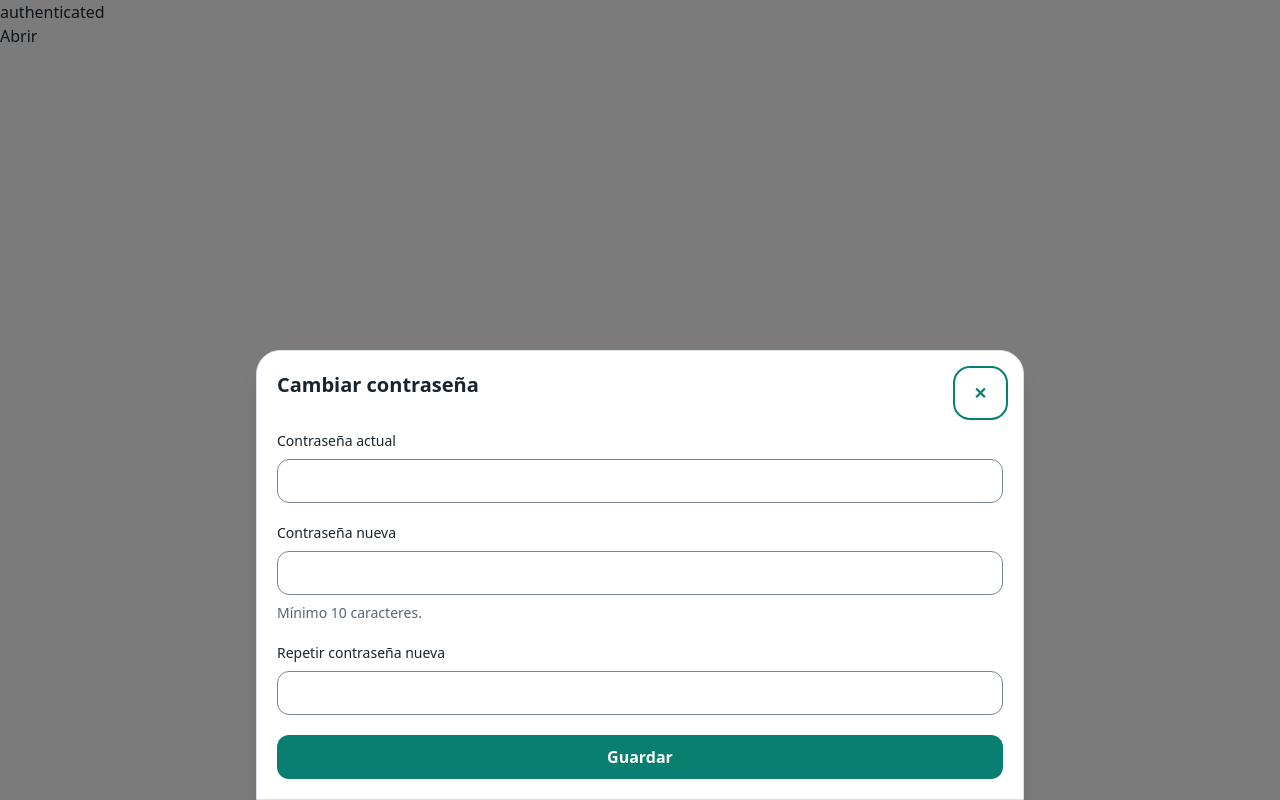
Test: las contraseñas que no coinciden no se envían
Expected: the text "authenticated" is shown, x1=0 y1=1 x2=105 y2=23
In the password field labelled "Contraseña actual": x=640, y=481 x1=277 y1=459 x2=1003 y2=503, type "actual-segura"
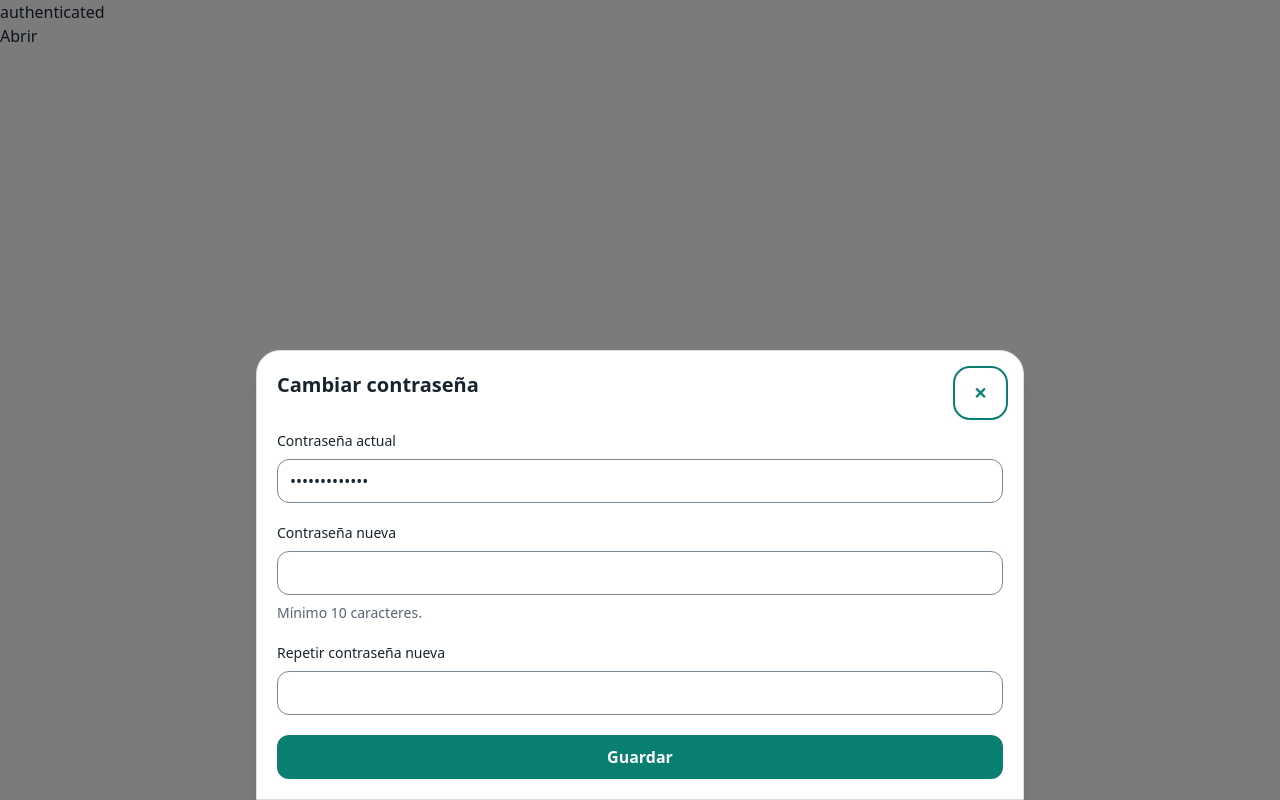
In the password field labelled "Contraseña nueva": x=640, y=573 x1=277 y1=551 x2=1003 y2=595, type "nueva-segura"
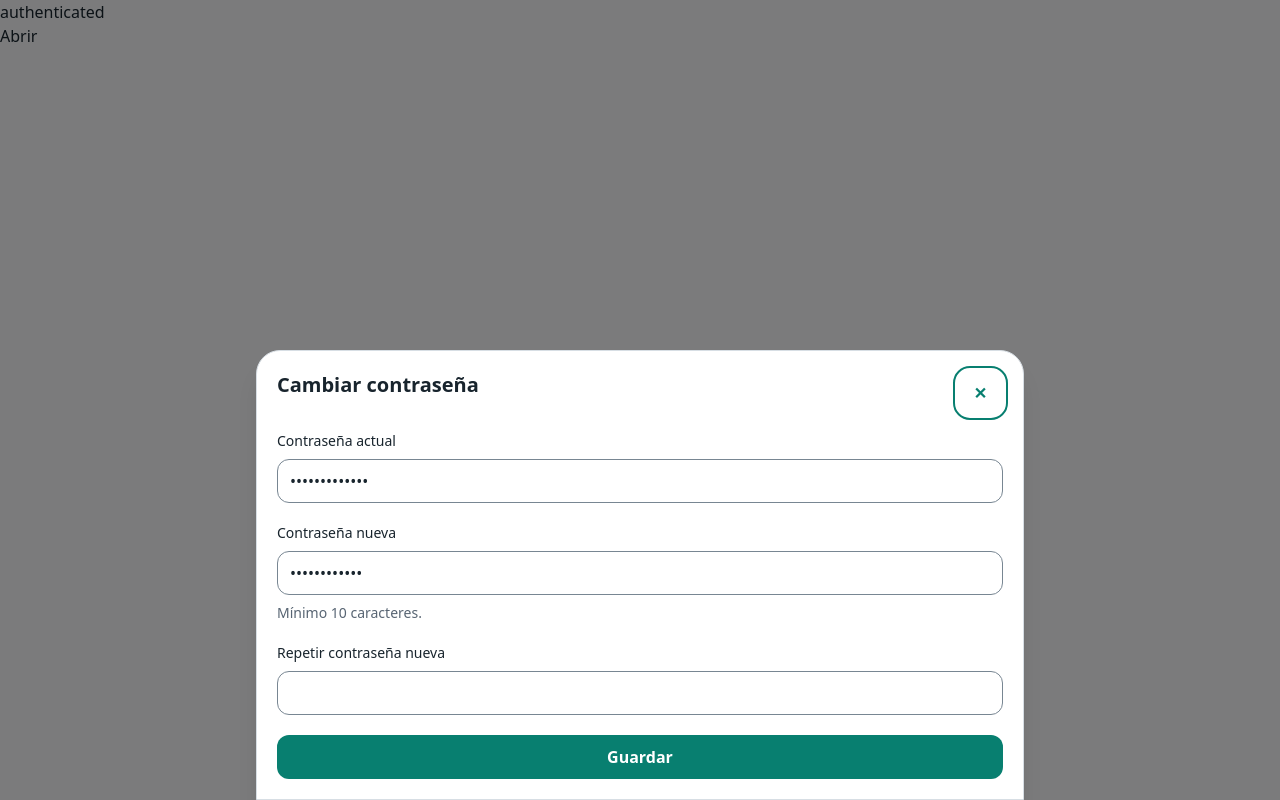
In the password field labelled "Repetir contraseña nueva": x=640, y=693 x1=277 y1=671 x2=1003 y2=715, type "otra-segura"
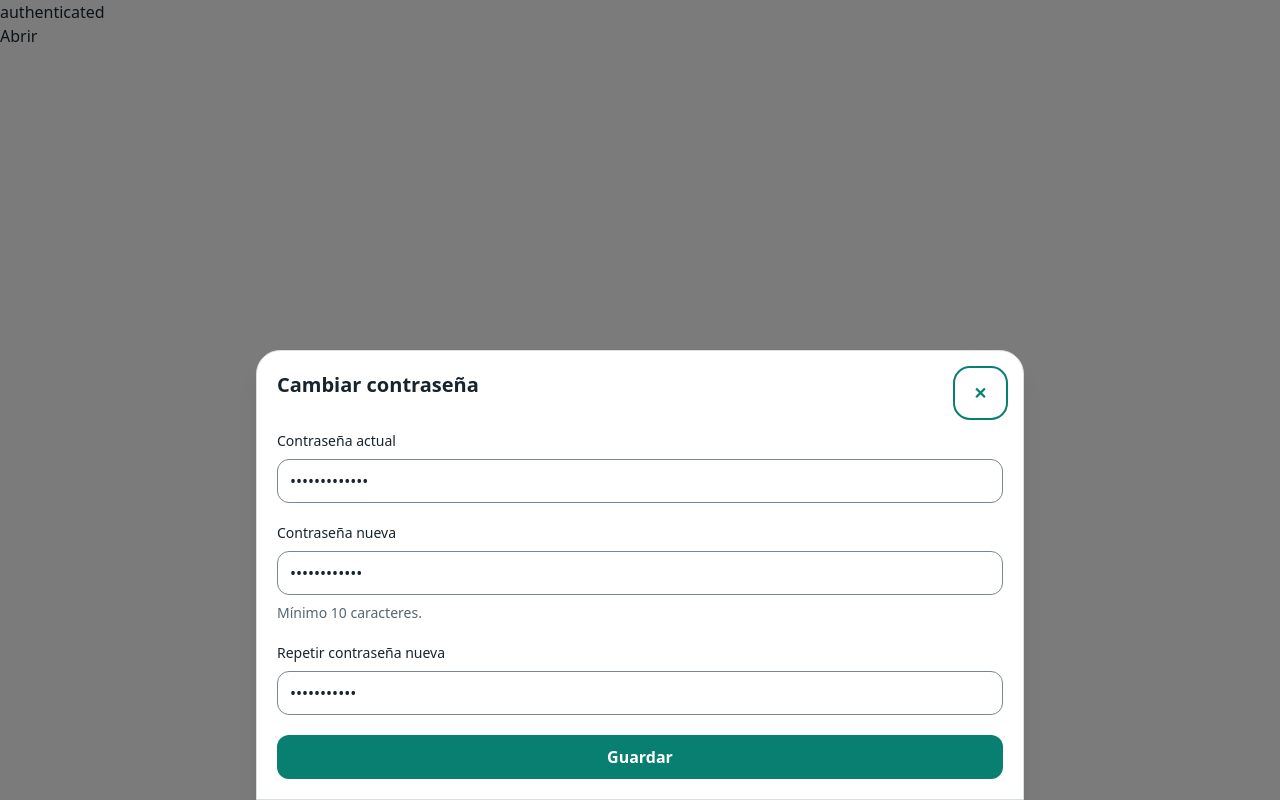
Click the button "Guardar": x=640, y=757 x1=277 y1=735 x2=1003 y2=779
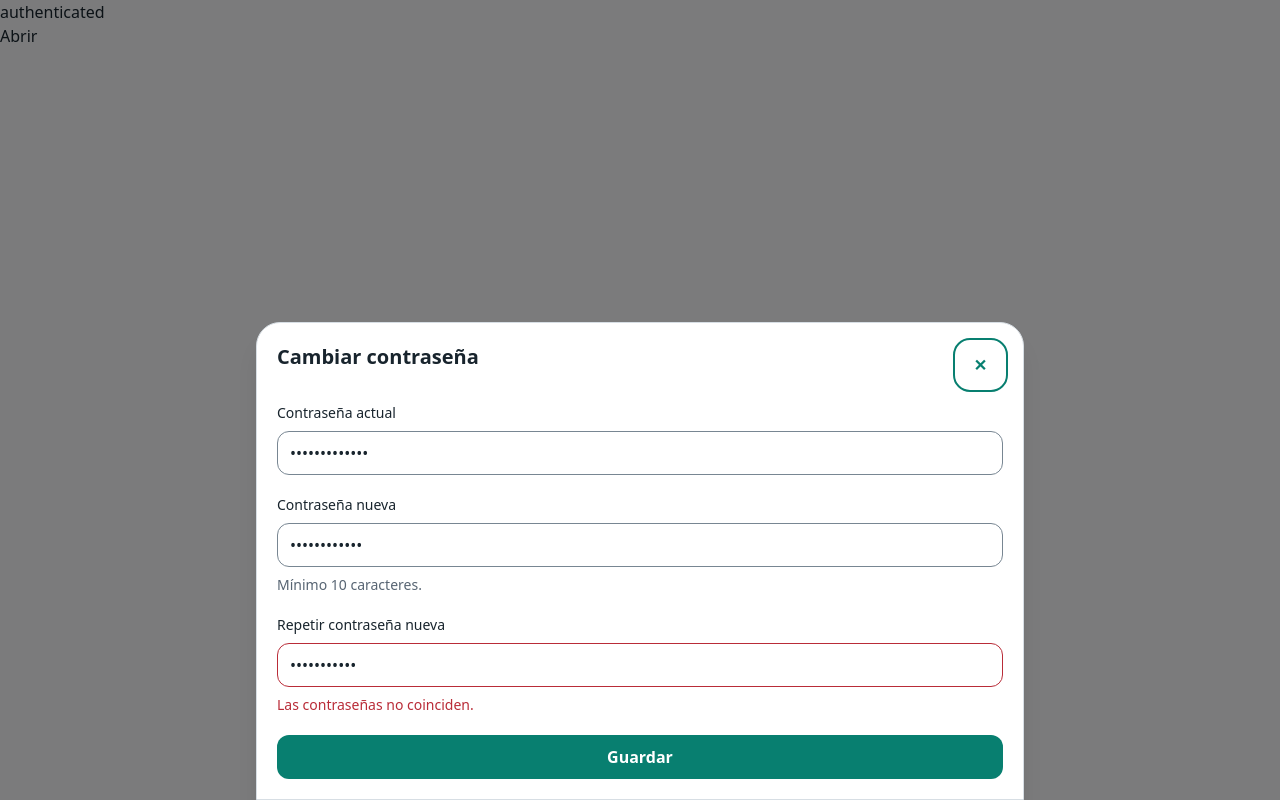
Expected: the text "Las contraseñas no coinciden." is shown, x1=277 y1=695 x2=474 y2=714
